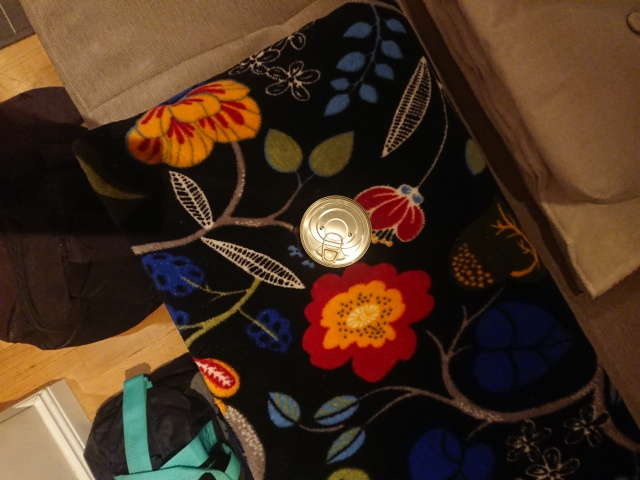Podravka Luncheon Meat 150g: (297, 192, 374, 271)
